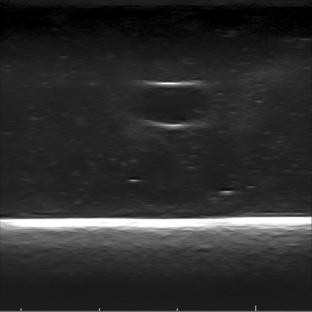vessel: (126, 81, 212, 131)
